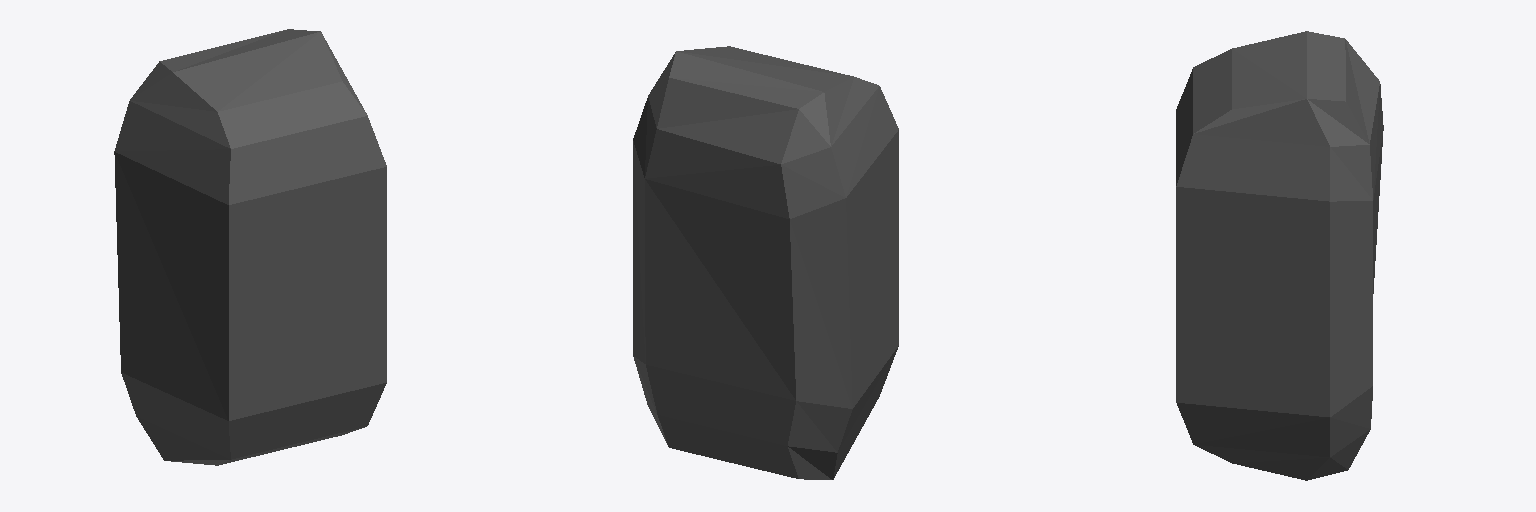
Rendered from slider.obj.
The picture shows the model from 3 angles: view 1: azimuth 30°, elevation 25°; view 2: azimuth 150°, elevation 25°; view 3: azimuth 270°, elevation 25°; orthographic projection.
Parts seen in each view (by area): view 1: slider; view 2: slider; view 3: slider.
Boxes of the visible parts, <box> form: slider: <box>114,29,386,465</box>; slider: <box>633,46,898,479</box>; slider: <box>1176,31,1383,480</box>.
Size of the model in its own units: 0.009 by 0.0153 by 0.0074.